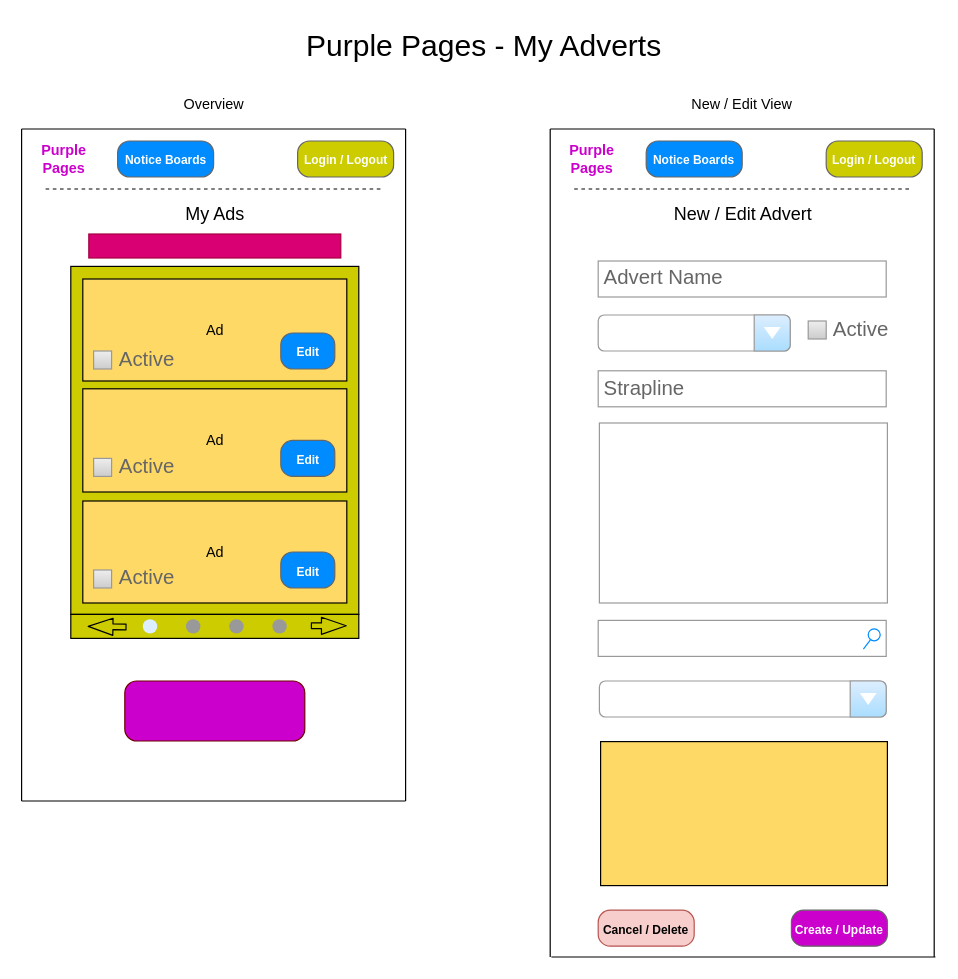
Image size: 958x979. Some labels were removed from this diagram. Each missing label, with the centre of its shape:
Ad Preview: pixel 743 813
Ad Style: pixel 742 698
Catagory: pixel 693 332
New Advert: pixel 214 710
Text Content: pixel 742 512
Upload Image: pixel 741 637
Your subscription is active/expired: pixel 214 245
